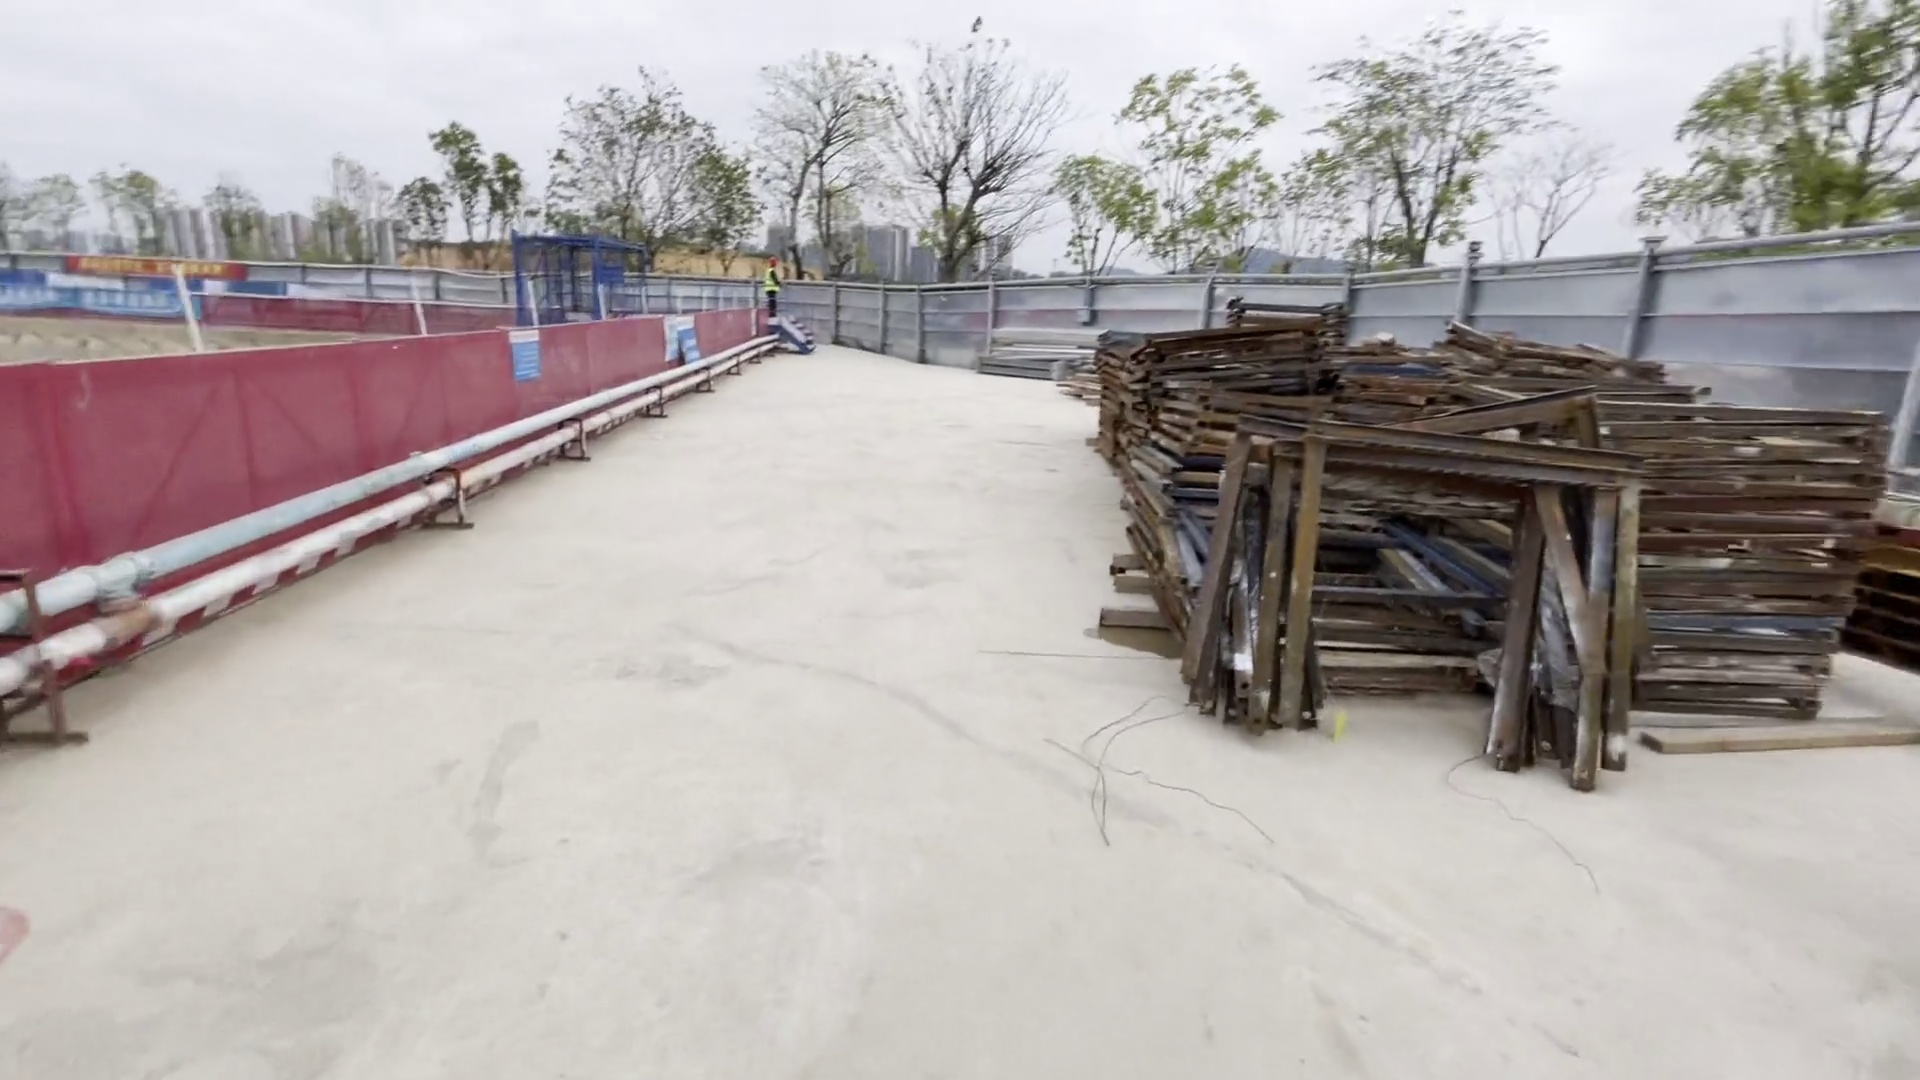fence: (1, 305, 759, 606)
helmet: (765, 247, 782, 269)
person: (763, 245, 783, 317)
slogan: (1, 279, 198, 316), (67, 254, 242, 278)
vest: (766, 269, 777, 289)
